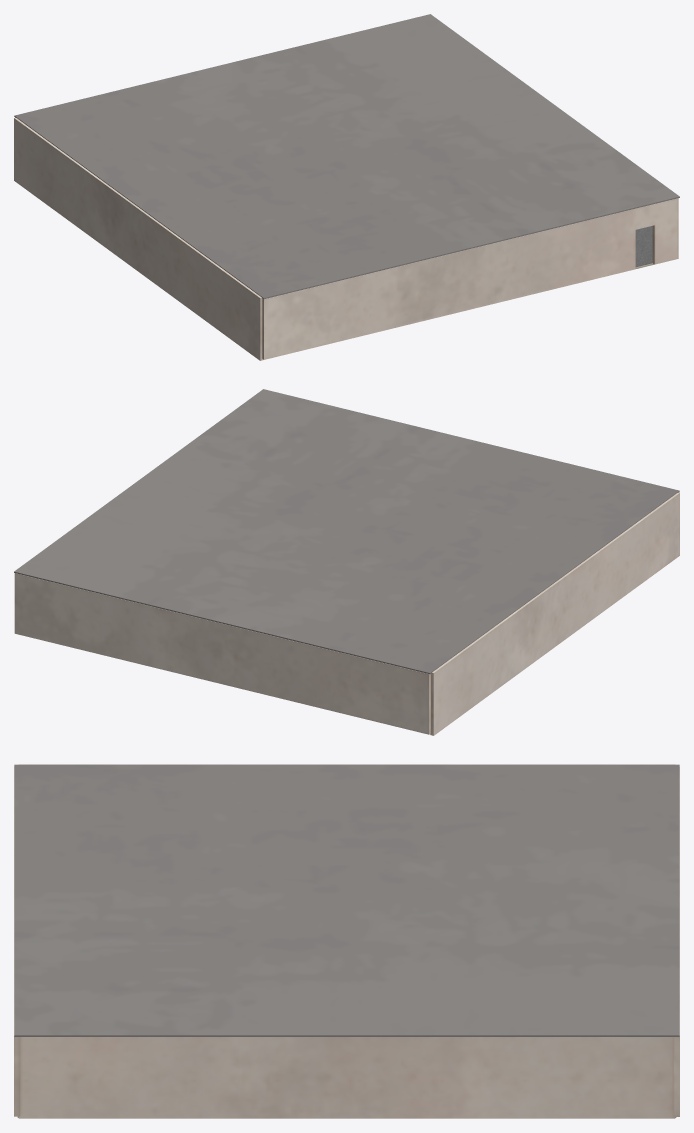
File: Training Room.fbx
3 renders of one model, top to bottom at view 1: azimuth 30°, elevation 25°; view 2: azimuth 150°, elevation 25°; view 3: azimuth 270°, elevation 25°, orthographic. The views are drawn at different scales.
Visible parts, largest first — view 1: Ceiling, Walls, Walls.002, Door; view 2: Ceiling, Walls.003, Walls.002; view 3: Ceiling, Walls.001, Walls, Walls.003, Walls.002.
Part boxes in pixels (x1=…): Ceiling: x1=14, y1=14, x2=679, y2=299; Walls: x1=262, y1=198, x2=678, y2=359; Walls.002: x1=14, y1=117, x2=263, y2=360; Door: x1=635, y1=226, x2=652, y2=267; Ceiling: x1=14, y1=389, x2=679, y2=674; Walls.003: x1=14, y1=573, x2=430, y2=734; Walls.002: x1=430, y1=492, x2=679, y2=735; Ceiling: x1=14, y1=764, x2=679, y2=1036; Walls.001: x1=18, y1=1037, x2=675, y2=1118; Walls: x1=14, y1=766, x2=20, y2=1116; Walls.003: x1=673, y1=767, x2=679, y2=1116; Walls.002: x1=19, y1=764, x2=674, y2=764.
Bounding box in the file's own units: 3641 × 528 × 3766.
Materials: 11 (11 with a texture image).
